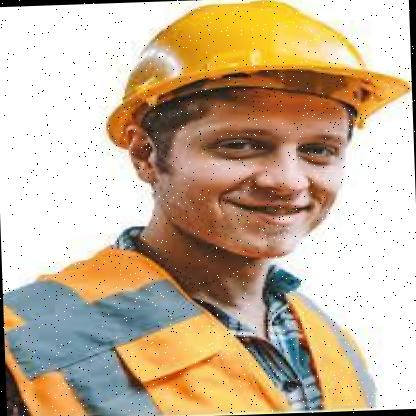capacete: (102, 0, 412, 152)
